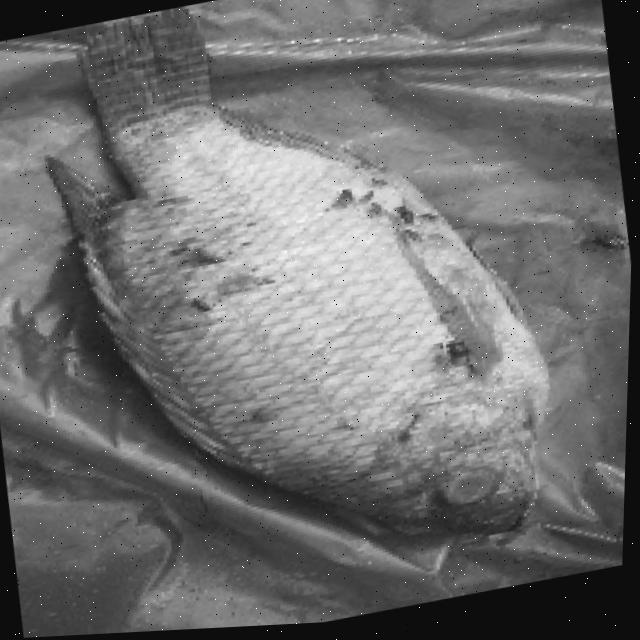Non-Fresh: (116, 180, 592, 627)
